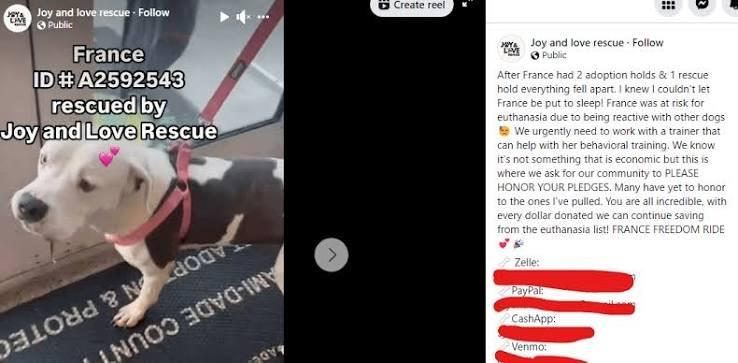adult_dog: (10, 116, 284, 328)
